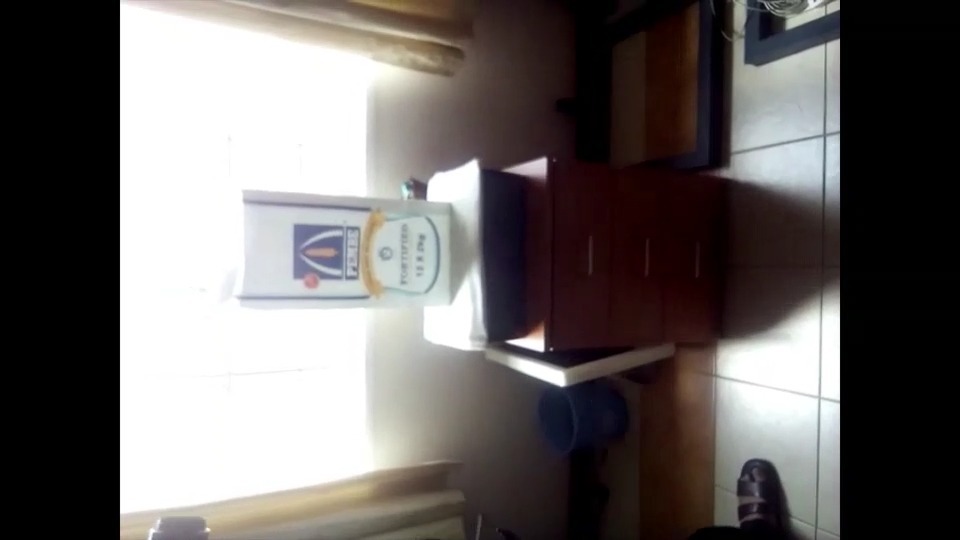wheat_flour_blue_label: (232, 185, 443, 310)
